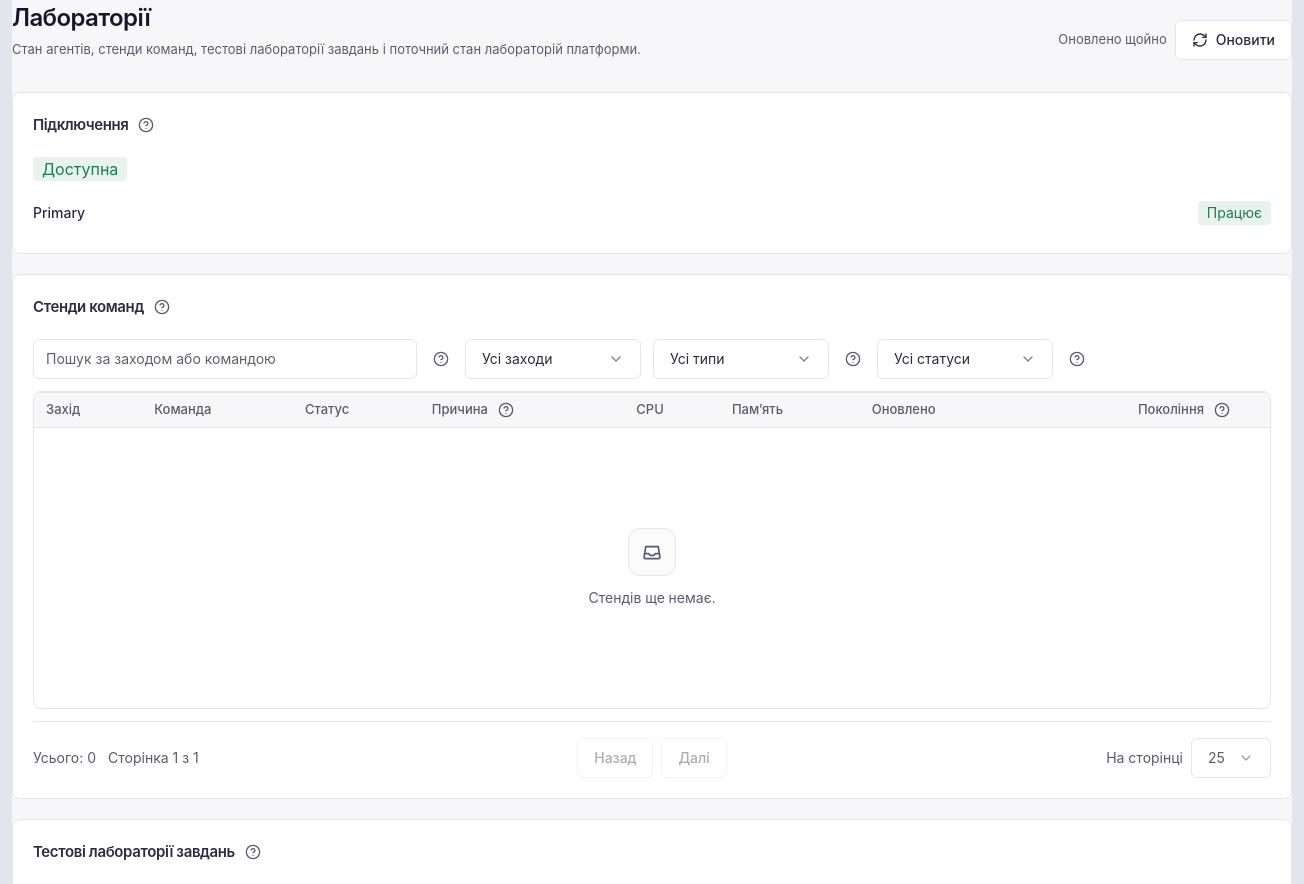
Test case: infrastructure page › test labs › shows a centered empty state and a load error with retry
Click the button "Оновити". click: [1233, 40]
box: [1175,20,1292,60]
(page scrolled)
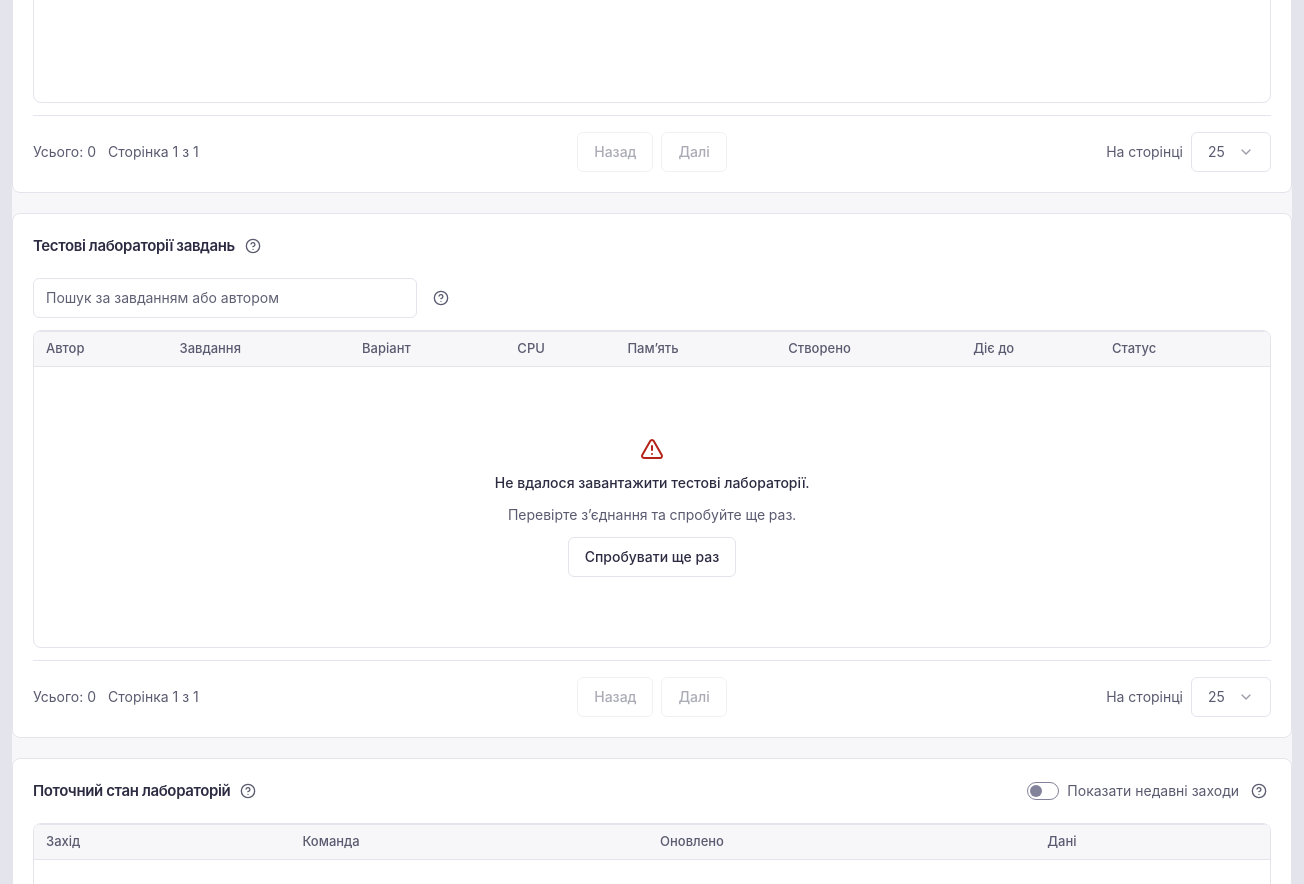
Result: the text "Не вдалося завантажити тестові лабораторії." is shown at [495,472,809,492]
